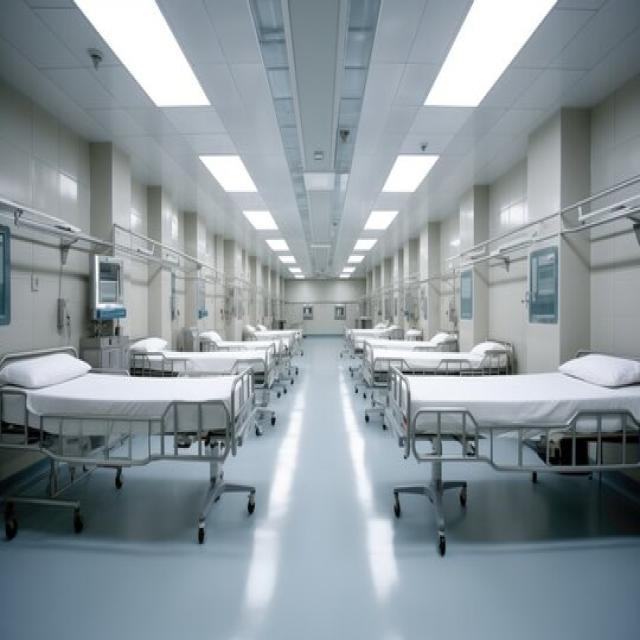bed: (384, 348, 639, 554), (0, 345, 256, 544)
